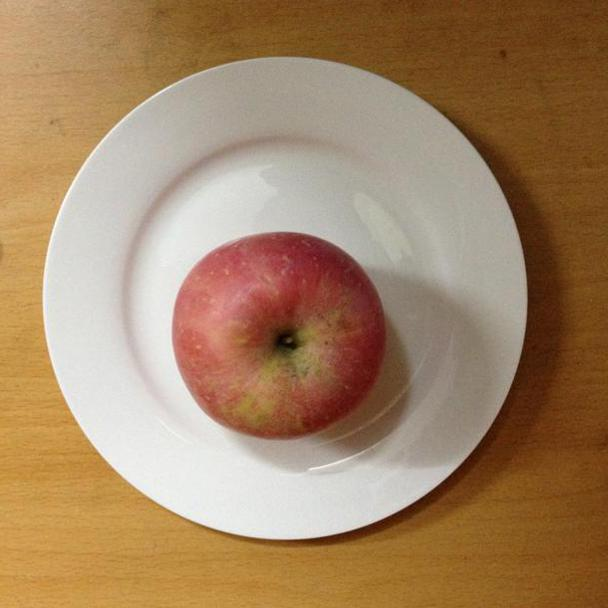apple: (171, 232, 386, 440)
